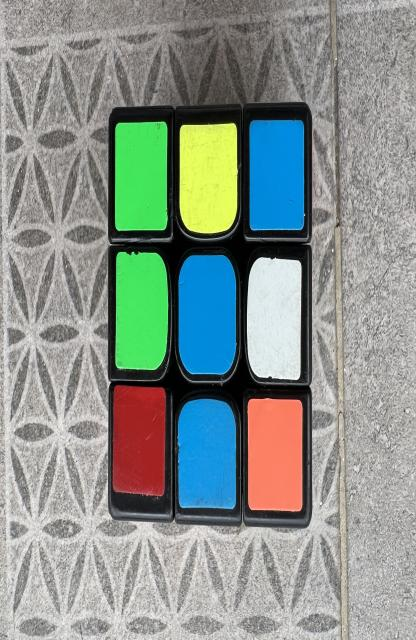Blue: (179, 255, 236, 375), (178, 398, 236, 510), (249, 120, 304, 230)
Green: (115, 252, 168, 370), (115, 122, 167, 232)
Orange: (248, 398, 302, 512)
Red: (113, 385, 166, 497)
White: (247, 257, 301, 380)
Yellow: (180, 123, 238, 233)
